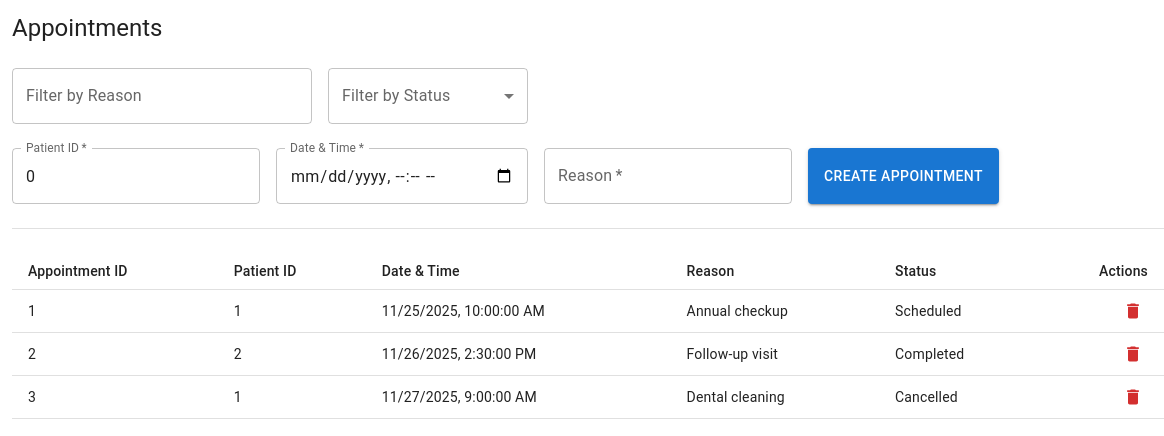
Test: AppointmentsPage › filters appointments by reason
Expected: the text "Annual checkup" is shown, x1=671 y1=290 x2=879 y2=332
In the field with placeholder "Search by appointment reason...": (162, 96) x1=12 y1=68 x2=312 y2=124, type "checkup"
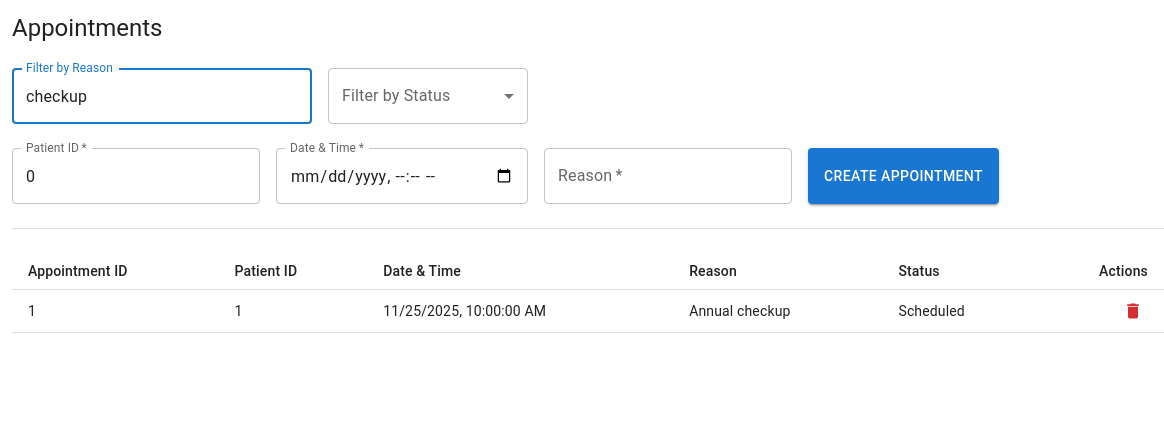
Expected: the text "Annual checkup" is shown, x1=673 y1=290 x2=882 y2=332
Expected: the text "Follow-up visit" is gone
Expected: the text "Dental cleaning" is gone
